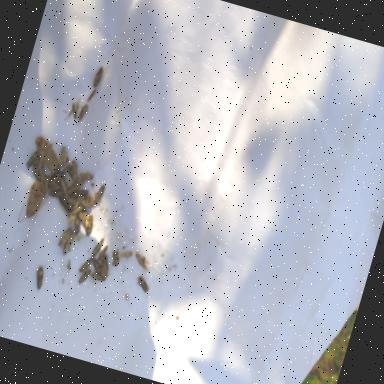pbw: (92, 60, 112, 91), (63, 176, 86, 200), (54, 193, 76, 218), (74, 208, 94, 233), (66, 203, 84, 229), (90, 183, 107, 209), (57, 225, 74, 250), (62, 228, 76, 258), (132, 252, 151, 272), (75, 103, 90, 128), (32, 266, 47, 291), (78, 254, 94, 276), (55, 146, 71, 168), (97, 256, 112, 279), (91, 236, 105, 260), (25, 150, 40, 172), (134, 276, 152, 294), (29, 162, 45, 182), (78, 268, 94, 288), (70, 216, 84, 238), (47, 168, 62, 188), (47, 186, 66, 201), (84, 214, 96, 237), (72, 186, 89, 202), (109, 248, 123, 267), (63, 164, 78, 181), (116, 248, 134, 262), (77, 196, 94, 210), (47, 180, 64, 194), (96, 243, 108, 262), (90, 258, 104, 274), (90, 270, 108, 282), (78, 170, 94, 183), (57, 166, 68, 184), (66, 195, 78, 205)
